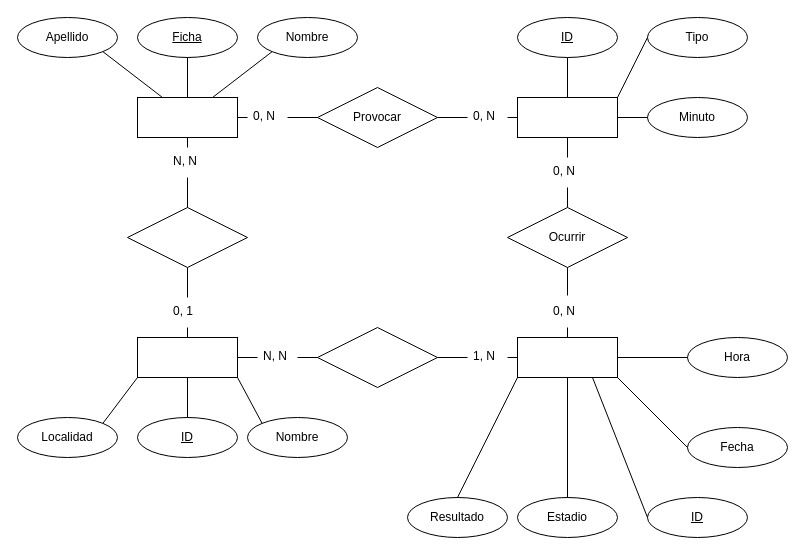
The diagram is 805 pixels wide and 555 high, and some of its shapes have lost their labels. The centre of each missing label's shape, as x and y in pixels:
Equipo: [187,357]
Evento: [567,117]
Fichar: [187,237]
Jugador: [187,117]
Participar: [377,357]
Partido: [567,357]
